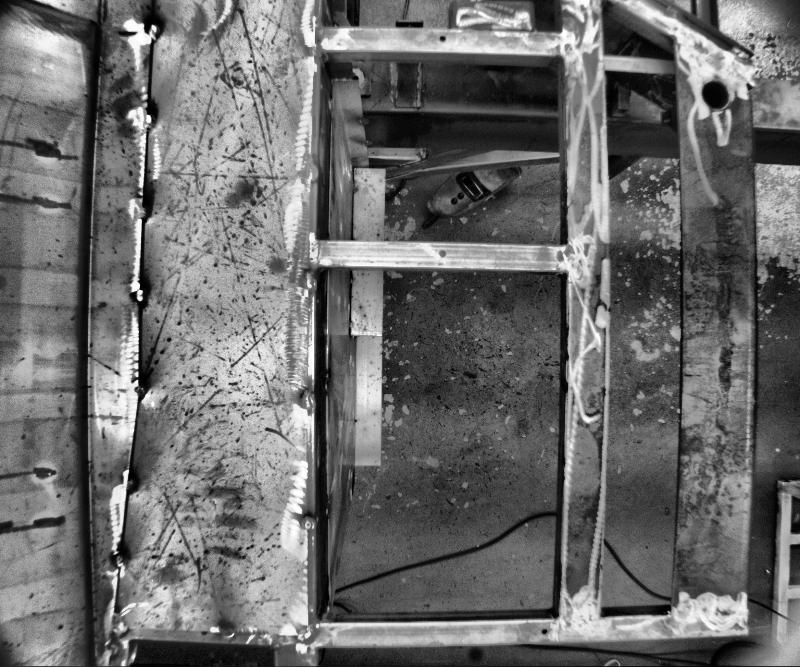hole: (699, 76, 733, 111), (439, 250, 447, 258), (540, 629, 548, 636), (439, 34, 447, 41)
